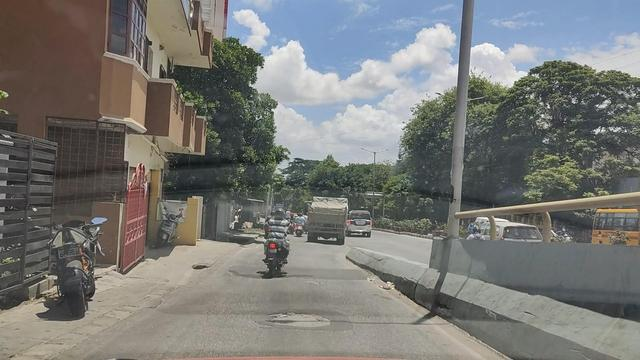HMV: (303, 195, 351, 248)
LMV: (41, 206, 111, 324)
RoadDamages: (257, 301, 348, 334), (184, 256, 214, 281)
